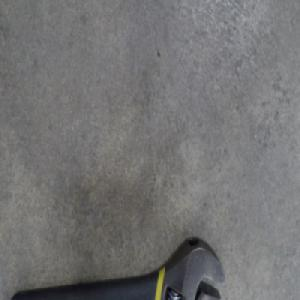AdjustableWrench: (13, 234, 228, 299)
